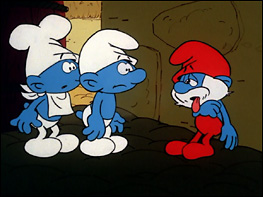smurf: (8, 14, 79, 157), (77, 28, 146, 156), (165, 40, 237, 158)
